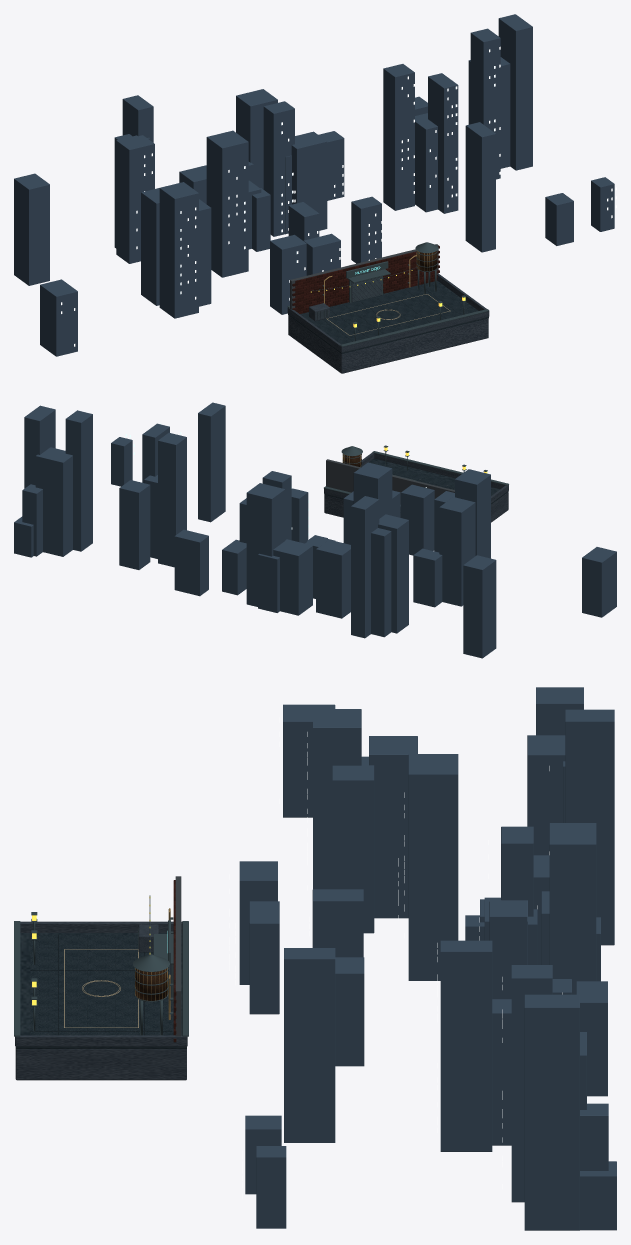
The model's file is midnight-dojo.glb.
3 views of the same model, one above another, from view 1: azimuth 30°, elevation 25°; view 2: azimuth 150°, elevation 25°; view 3: azimuth 270°, elevation 25° (orthographic). The views are drawn at different scales.
Visible parts, largest first — view 1: Environment_City_silhouette, Environment_Concrete, Environment_Wet_rooftop, Environment_Blackened_steel, Environment_Brick_0, Environment_Distant_windows, Environment_Brick_3, Environment_Brick_1, Environment_Brick_2, Environment_Mortar; view 2: Environment_City_silhouette, Environment_Concrete, Environment_Mortar, Environment_Wet_rooftop, Environment_Blackened_steel; view 3: Environment_City_silhouette, Environment_Wet_rooftop, Environment_Concrete, Environment_Blackened_steel, Environment_Mortar, Environment_Water_tower_wood.
Boxes of the visible parts, left/top/right/bottom form: Environment_City_silhouette: left=14, top=14, right=614, bottom=356; Environment_Concrete: left=287, top=274, right=489, bottom=373; Environment_Wet_rooftop: left=288, top=281, right=488, bottom=353; Environment_Blackened_steel: left=287, top=242, right=489, bottom=346; Environment_Brick_0: left=292, top=255, right=431, bottom=312; Environment_Distant_windows: left=61, top=46, right=616, bottom=346; Environment_Brick_3: left=295, top=251, right=439, bottom=308; Environment_Brick_1: left=292, top=246, right=439, bottom=311; Environment_Brick_2: left=292, top=254, right=439, bottom=313; Environment_Mortar: left=290, top=244, right=462, bottom=328; Environment_City_silhouette: left=14, top=402, right=616, bottom=658; Environment_Concrete: left=324, top=453, right=508, bottom=522; Environment_Mortar: left=326, top=459, right=454, bottom=504; Environment_Wet_rooftop: left=324, top=458, right=508, bottom=513; Environment_Blackened_steel: left=324, top=445, right=508, bottom=506; Environment_City_silhouette: left=239, top=687, right=616, bottom=1230; Environment_Wet_rooftop: left=15, top=933, right=186, bottom=1048; Environment_Concrete: left=15, top=921, right=187, bottom=1080; Environment_Blackened_steel: left=14, top=895, right=188, bottom=1036; Environment_Mortar: left=47, top=876, right=181, bottom=1036; Environment_Water_tower_wood: left=135, top=968, right=167, bottom=1001.
Bounding box in the file's own units: 71.27 × 17.98 × 42.23.
15 materials, 7 textured.
